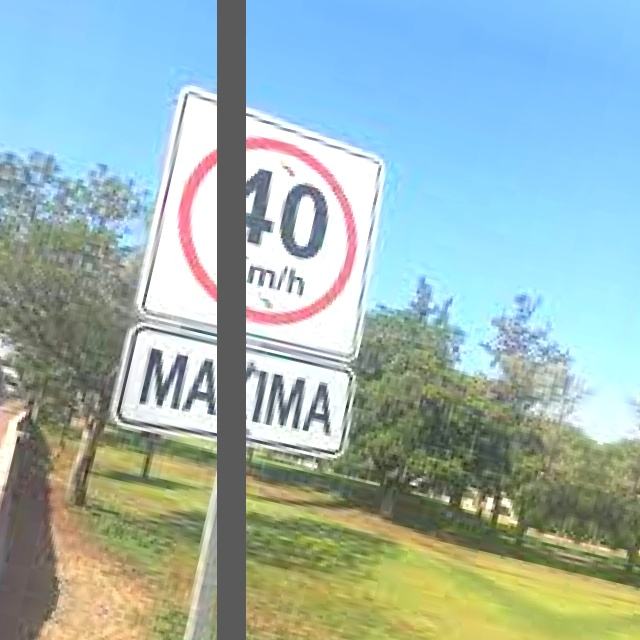Speed_Limit_40: (148, 105, 396, 356)
